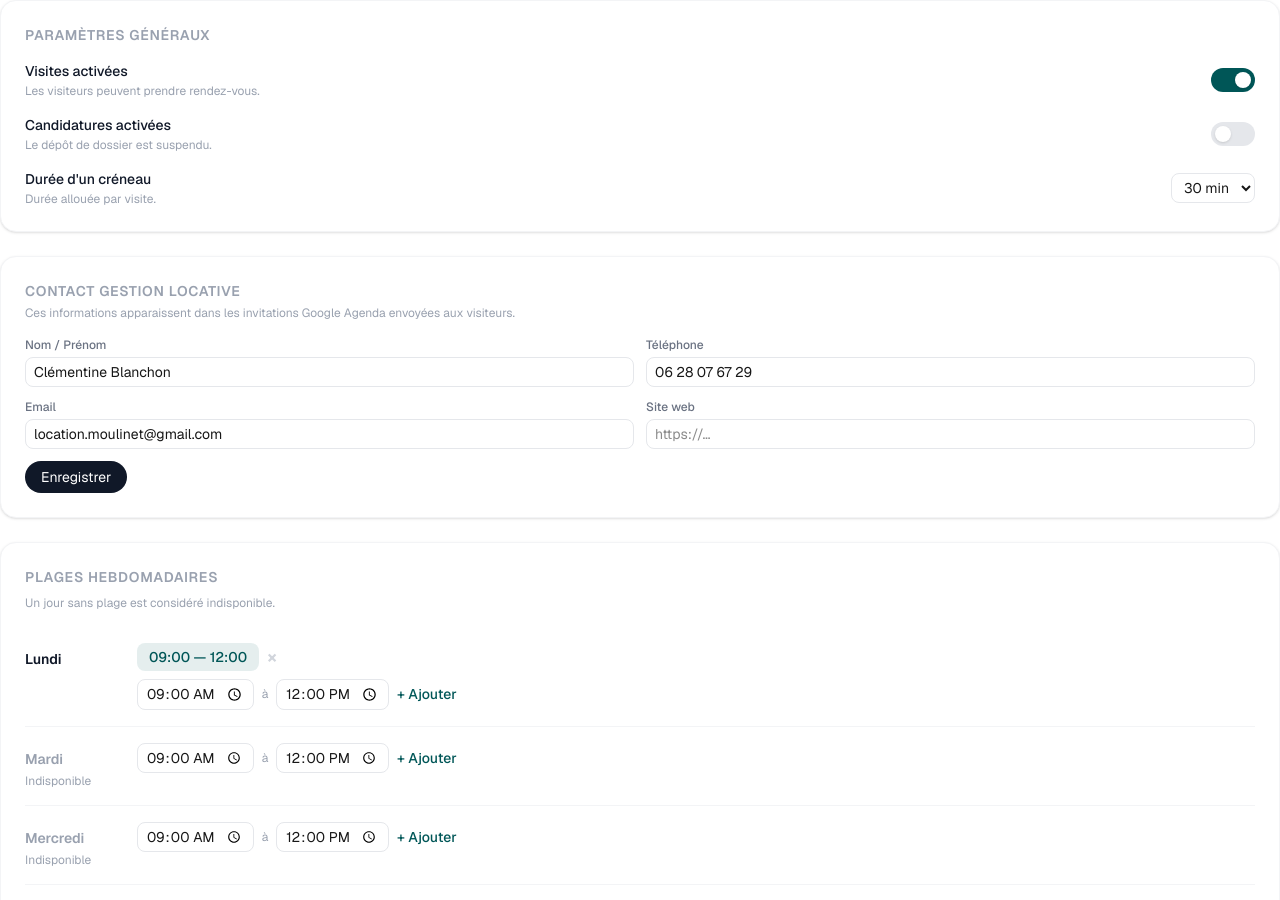
Scenario: AvailabilityManager — contact › enregistre le contact et affiche "Sauvegardé"
Click the button "Enregistrer": (76, 477) [25,461,127,493]
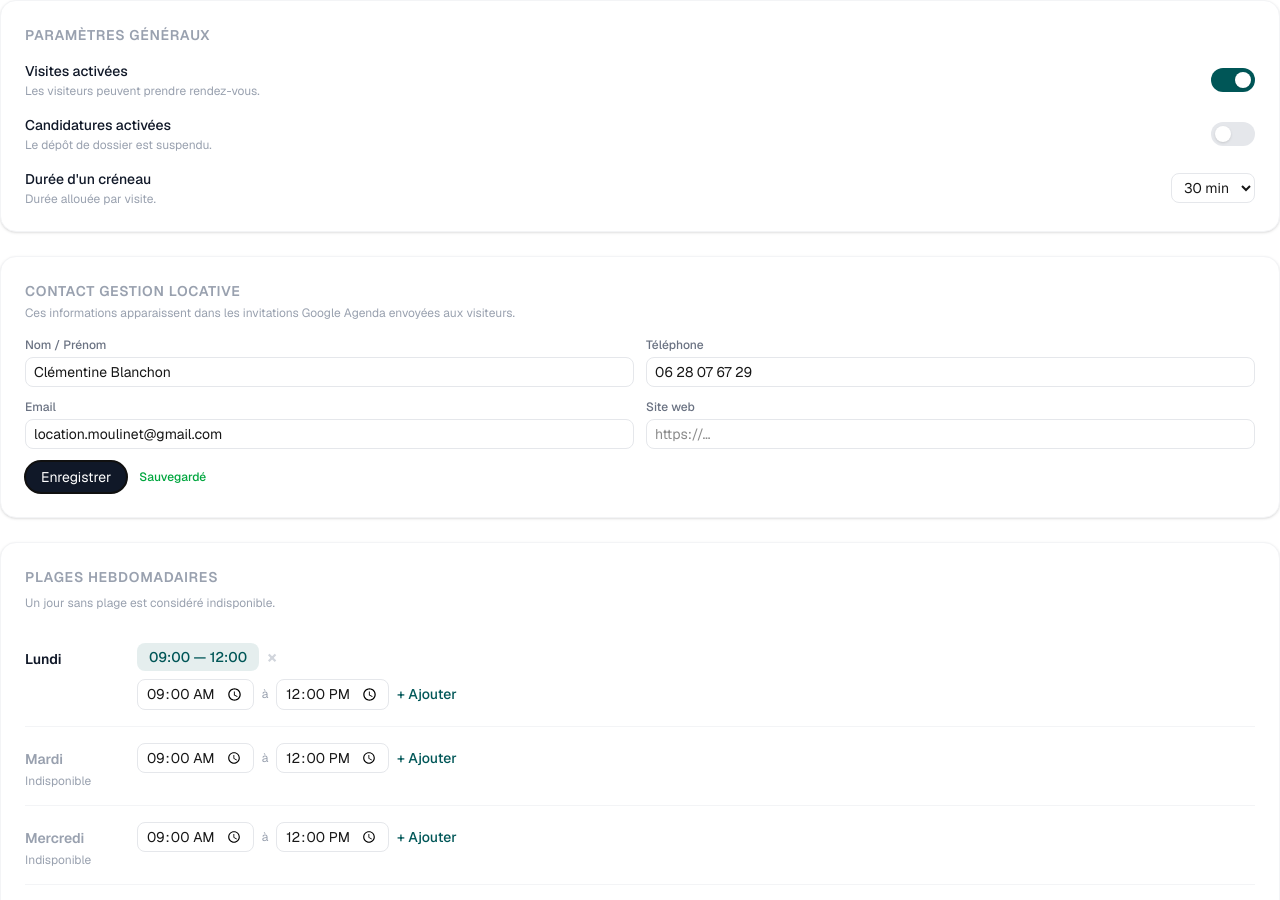
expect the text "Sauvegardé" is shown: met, box [139,469,206,485]
